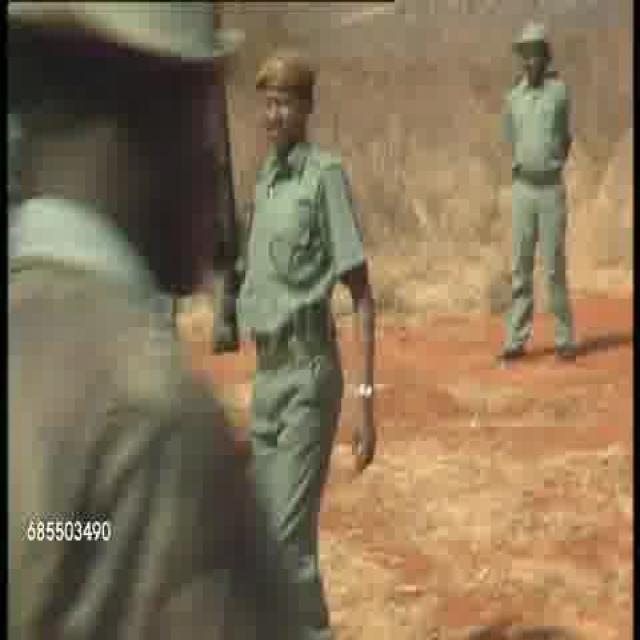poacher: (1, 1, 267, 586), (248, 39, 382, 576), (490, 11, 586, 390)
